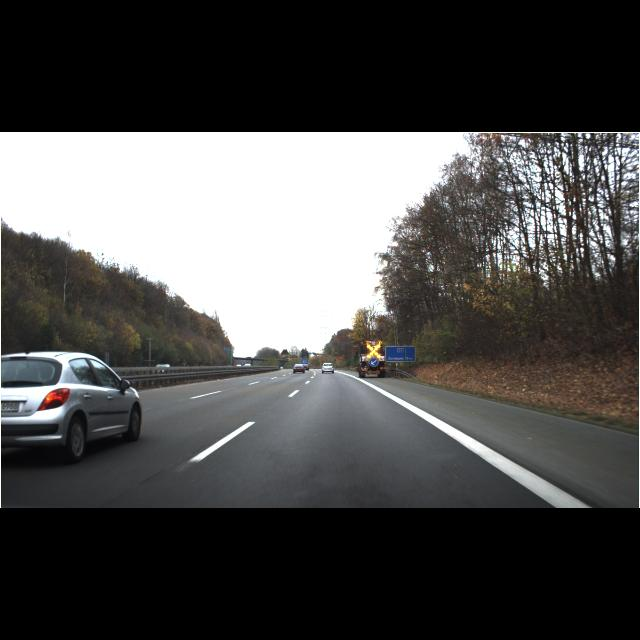mandatory: (369, 358, 378, 368)
